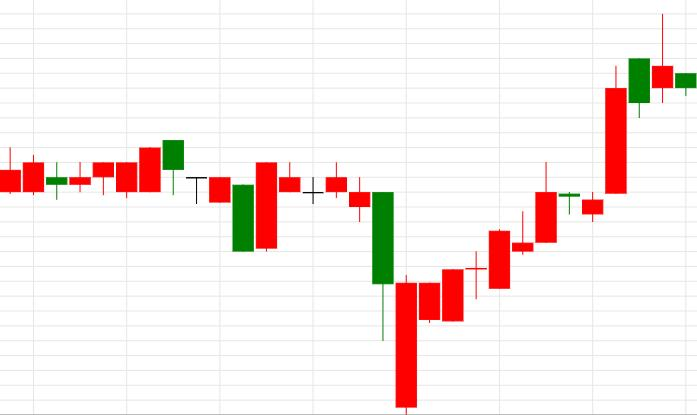bullish_engulfing_rise: (162, 139, 278, 253)
shooting_star_fall: (396, 12, 674, 415)
